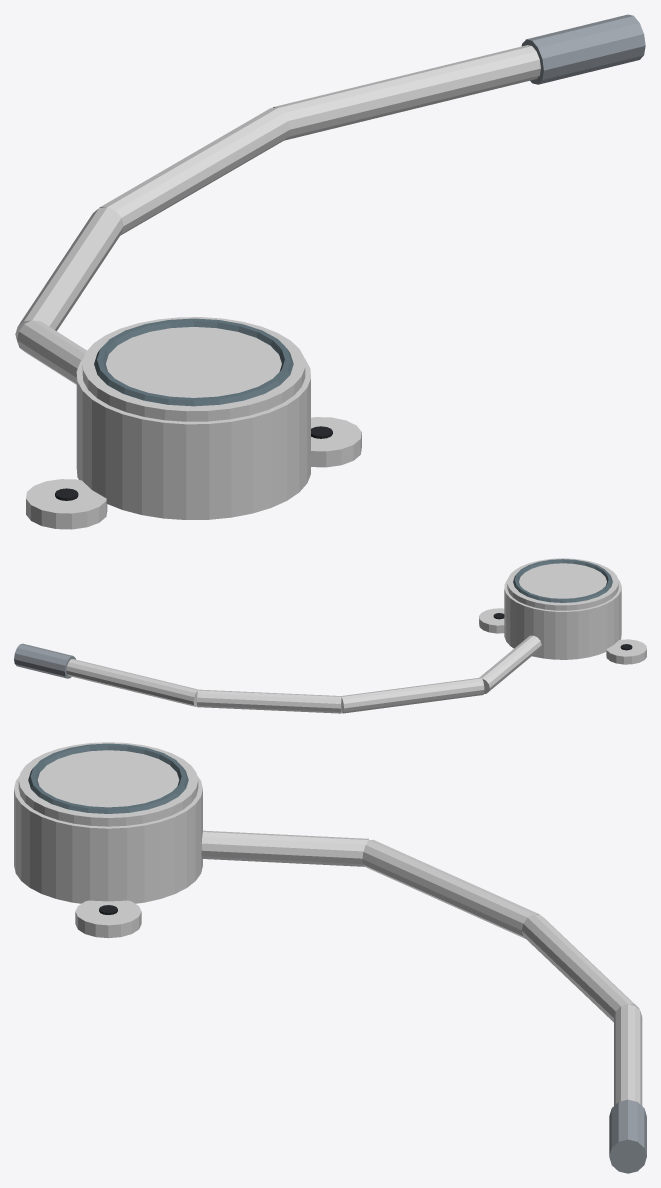
File: water-leak-sensor.glb
3 views of the same model, one above another, from view 1: azimuth 30°, elevation 25°; view 2: azimuth 150°, elevation 25°; view 3: azimuth 270°, elevation 25° (orthographic). The views are drawn at different scales.
Parts seen in each view (by area): view 1: merged_white, merged_metal, status_lens; view 2: merged_white, merged_metal, status_lens; view 3: merged_white, status_lens, merged_metal.
Part boxes in pixels (left/top/right/bottom): merged_white: left=15, top=45, right=540, bottom=529; merged_metal: left=521, top=14, right=645, bottom=84; status_lens: left=94, top=318, right=293, bottom=406; merged_white: left=66, top=558, right=646, bottom=713; merged_metal: left=14, top=643, right=75, bottom=678; status_lens: left=513, top=559, right=612, bottom=602; merged_white: left=14, top=742, right=642, bottom=1105; status_lens: left=28, top=743, right=188, bottom=813; merged_metal: left=609, top=1099, right=646, bottom=1173.
Size of the model in its own units: 0.182 by 0.0229 by 0.134.
